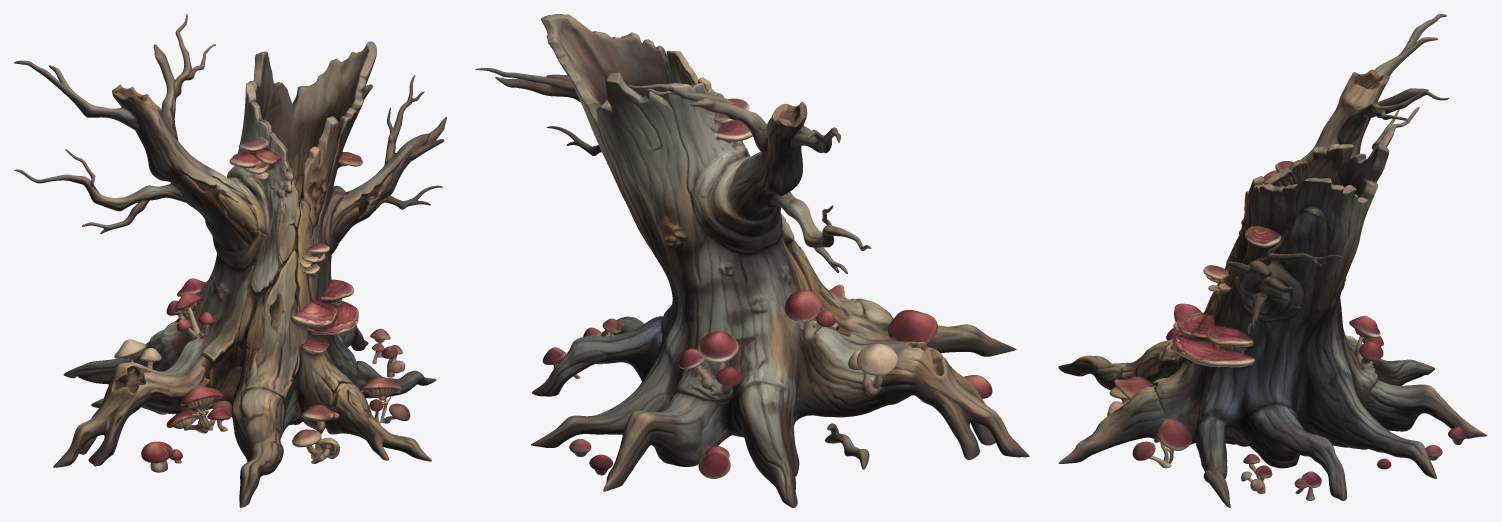
The model's file is Meshy_AI_Tree_01_0216152106_texture.fbx.
The picture shows the model from 3 angles, left to right: view 1: azimuth 30°, elevation 25°; view 2: azimuth 150°, elevation 25°; view 3: azimuth 270°, elevation 25°; orthographic projection. The views are drawn at different scales.
Parts seen in each view (by area): view 1: Mesh_0; view 2: Mesh_0; view 3: Mesh_0.
Boxes of the visible parts, left/top/right/bottom form: Mesh_0: left=14, top=14, right=446, bottom=507; Mesh_0: left=475, top=14, right=1029, bottom=507; Mesh_0: left=1058, top=14, right=1487, bottom=507.
Size of the model in its own units: 190 by 141 by 162.
Materials: 1 (1 with a texture image).
